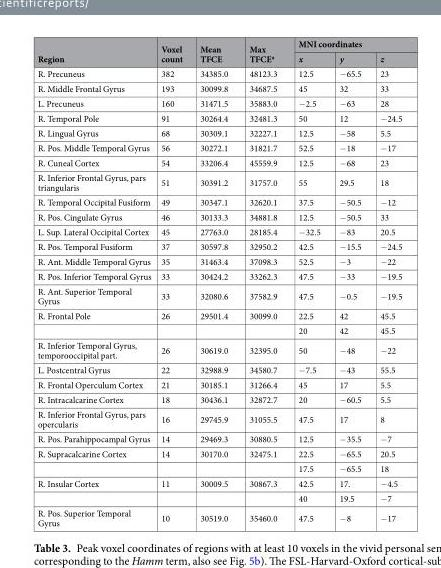table: (36, 37, 401, 528)
table column: (36, 37, 155, 528), (237, 37, 287, 528), (190, 37, 237, 528), (287, 37, 329, 528), (329, 37, 370, 528), (155, 37, 190, 528), (370, 37, 401, 528)
table column header: (36, 37, 401, 65)
table row: (36, 169, 401, 194), (36, 337, 401, 362), (36, 406, 401, 431), (36, 283, 401, 307), (36, 505, 401, 528), (36, 50, 401, 65), (36, 65, 401, 80), (36, 80, 401, 95), (36, 95, 401, 110), (36, 110, 401, 125), (36, 125, 401, 140), (36, 154, 401, 169), (36, 194, 401, 209), (36, 209, 401, 224), (36, 238, 401, 253), (36, 253, 401, 268), (36, 268, 401, 283), (36, 307, 401, 322), (36, 322, 401, 337), (36, 376, 401, 391), (36, 391, 401, 406), (36, 445, 401, 460), (36, 460, 401, 475), (36, 475, 401, 490), (36, 490, 401, 505), (36, 140, 401, 154), (36, 224, 401, 238), (36, 362, 401, 376), (36, 431, 401, 445), (36, 37, 401, 50)
table spanning cell: (36, 307, 155, 337), (36, 445, 155, 475), (36, 475, 155, 505), (36, 37, 155, 65), (287, 37, 401, 50), (237, 37, 287, 65), (190, 37, 237, 65), (155, 37, 190, 65)
